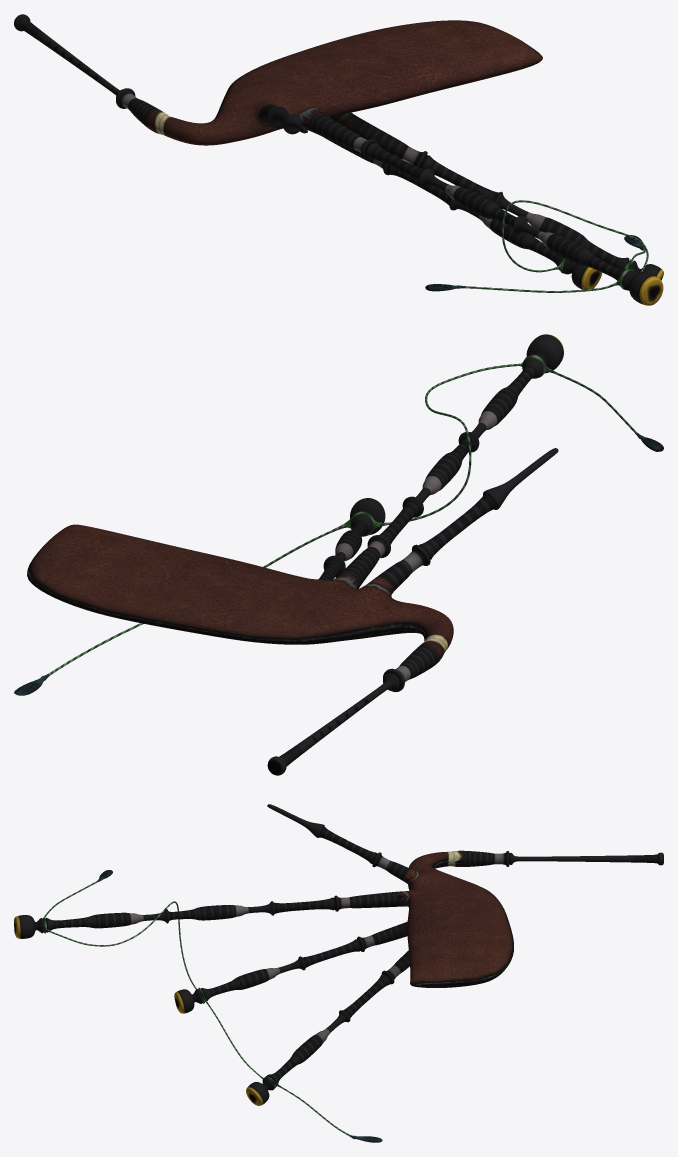
Rendered from 10369_BagPipes_v01_Iteration2.obj.
3 views of the same model, one above another, from view 1: azimuth 30°, elevation 25°; view 2: azimuth 150°, elevation 25°; view 3: azimuth 270°, elevation 25° (orthographic). The views are drawn at different scales.
Parts seen in each view (by area): view 1: 10369_BagPipes_V01; view 2: 10369_BagPipes_V01; view 3: 10369_BagPipes_V01.
Boxes of the visible parts, <box> form: 10369_BagPipes_V01: <box>14,14,663,305</box>; 10369_BagPipes_V01: <box>14,334,663,775</box>; 10369_BagPipes_V01: <box>14,804,663,1142</box>.
Bounding box in the file's own units: 850 × 488 × 1494.
Materials: 1 (1 with a texture image).
